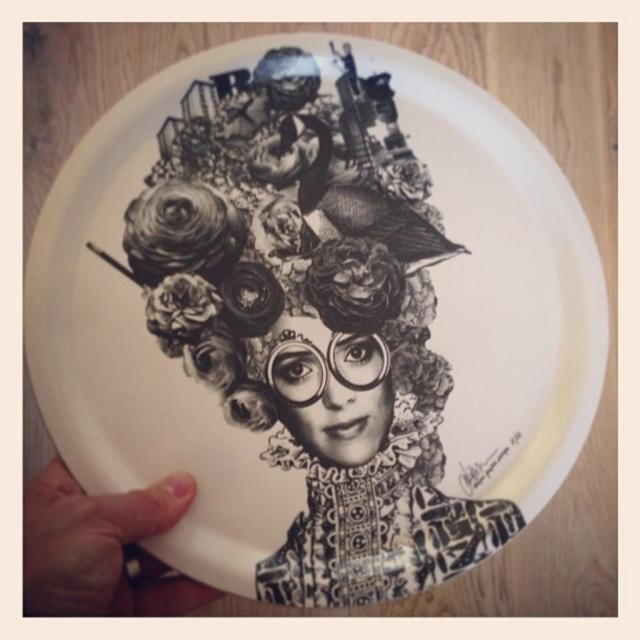non-organic waste: (57, 36, 601, 619)
